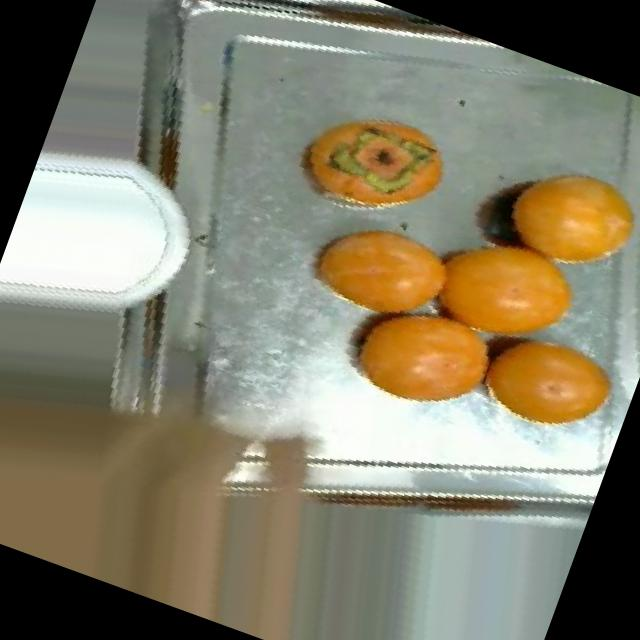Fruit: (310, 266, 523, 446), (269, 75, 475, 258), (398, 198, 606, 375), (279, 186, 475, 357), (448, 296, 640, 466), (477, 130, 640, 297)
